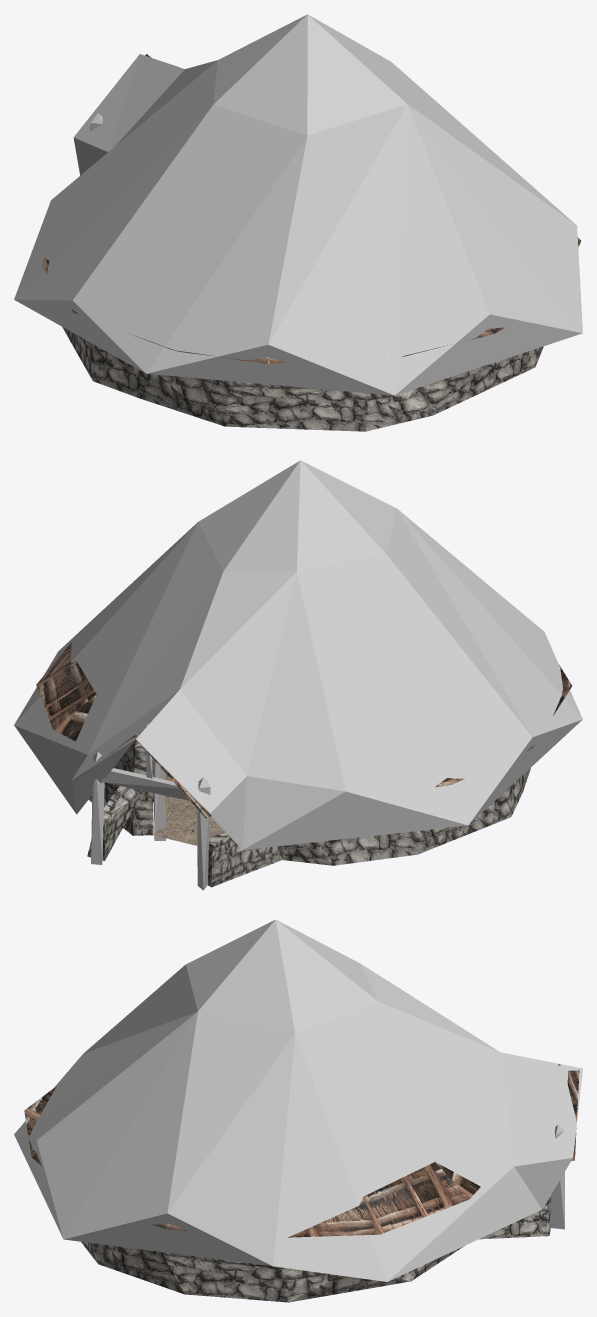
Rendered from RoundHut_1_LOD4.fbx.
3 views of the same model, one above another, from view 1: azimuth 30°, elevation 25°; view 2: azimuth 150°, elevation 25°; view 3: azimuth 270°, elevation 25° (orthographic). The views are drawn at different scales.
Visible parts, largest first — view 1: Alpha, Stone, Roof; view 2: Alpha, Stone, Wood, Roof, Ground; view 3: Alpha, Stone, Roof, Wood.
Boxes of the visible parts, x1,y1,x2,y2 form: Alpha: [14, 14, 582, 395]; Stone: [62, 327, 543, 431]; Roof: [42, 54, 580, 363]; Alpha: [14, 460, 582, 849]; Stone: [87, 741, 530, 887]; Wood: [91, 724, 210, 890]; Roof: [36, 642, 572, 818]; Ground: [154, 774, 224, 845]; Alpha: [14, 919, 582, 1281]; Stone: [81, 1196, 550, 1302]; Roof: [24, 1070, 579, 1237]; Wood: [550, 1064, 582, 1229].
Size of the model in its own units: 1674 by 1858 by 1059.
